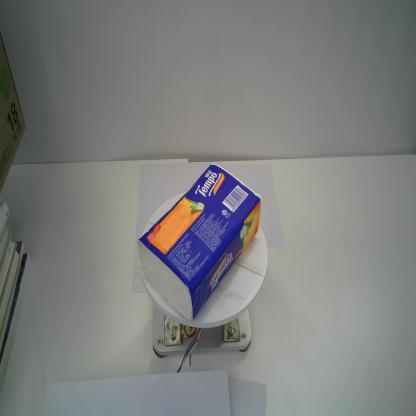Tissue: (136, 163, 262, 321)
